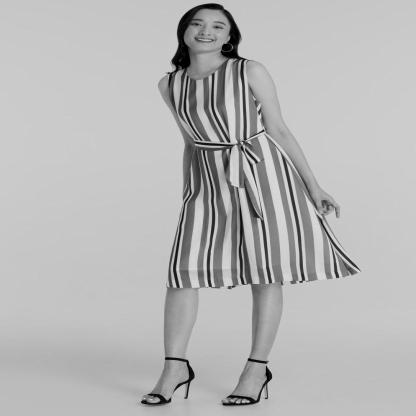jacket: (162, 59, 370, 293)
